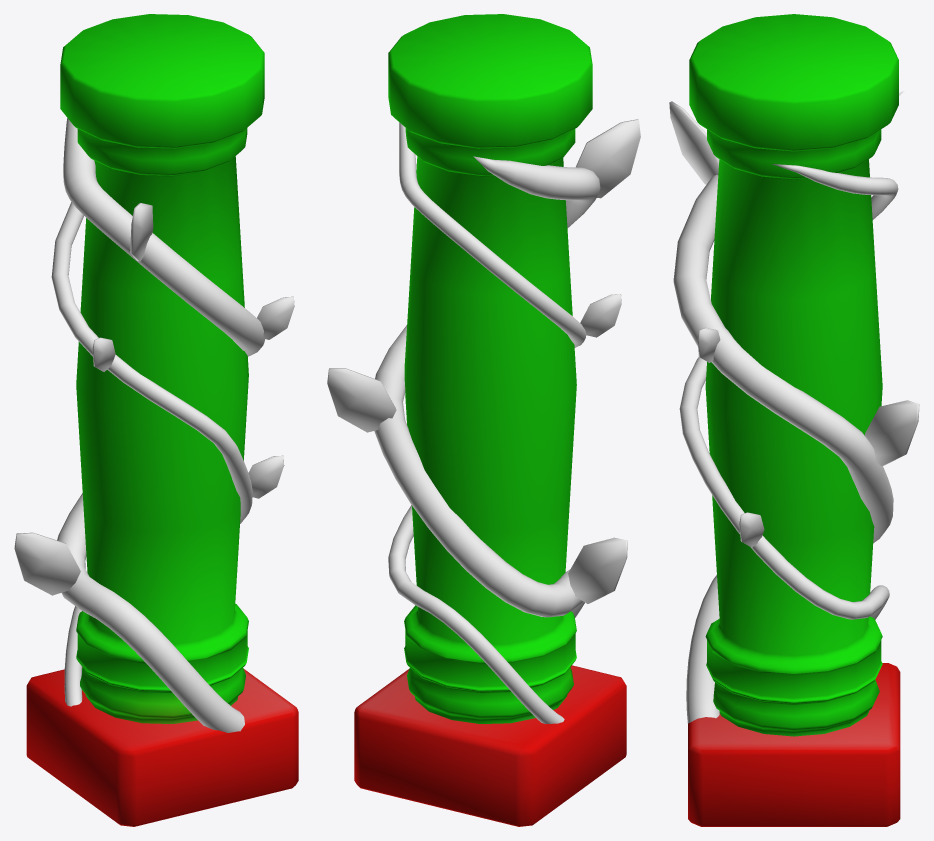
The model's file is pillar2.fbx.
The picture shows the model from 3 angles, left to right: view 1: azimuth 30°, elevation 25°; view 2: azimuth 150°, elevation 25°; view 3: azimuth 270°, elevation 25°; orthographic projection.
Parts seen in each view (by area): view 1: Cube.001, BezierCurve; view 2: Cube.001, BezierCurve; view 3: Cube.001, BezierCurve.
Boxes of the visible parts, left/top/right/bottom form: Cube.001: left=26, top=14, right=298, bottom=826; BezierCurve: left=14, top=118, right=294, bottom=732; Cube.001: left=354, top=14, right=626, bottom=826; BezierCurve: left=327, top=119, right=640, bottom=723; Cube.001: left=688, top=14, right=900, bottom=826; BezierCurve: left=669, top=91, right=919, bottom=723.
Size of the model in its own units: 325 by 905 by 283.
